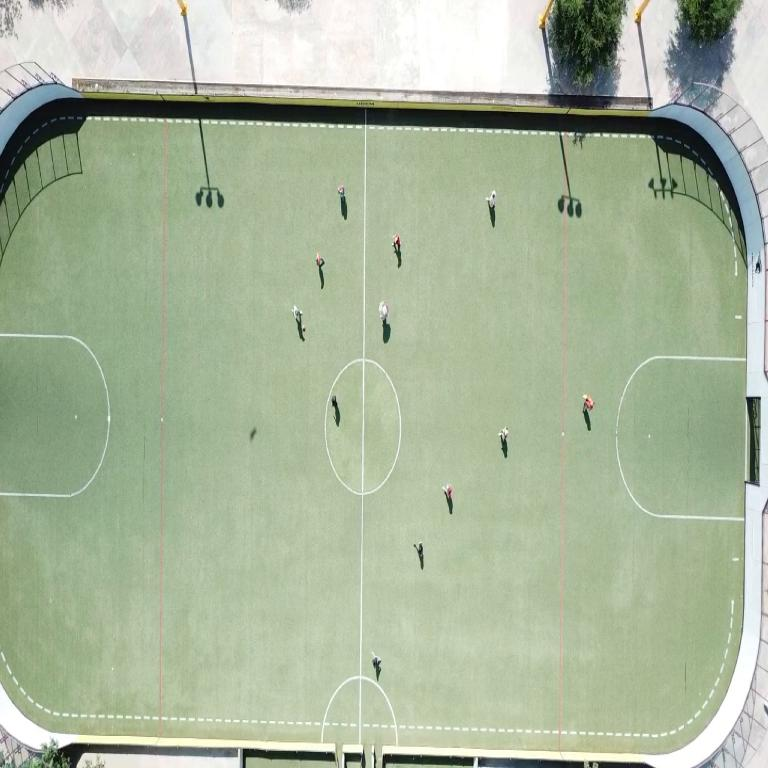AC: (615, 356, 745, 521), (0, 333, 110, 499)
B: (302, 324, 305, 330)
MC: (358, 109, 367, 743)
P: (486, 190, 496, 209), (380, 301, 388, 323), (372, 654, 381, 673), (583, 395, 593, 410), (414, 542, 423, 558), (442, 485, 452, 499), (499, 427, 508, 442), (293, 306, 301, 322), (393, 234, 400, 252), (317, 252, 323, 267), (338, 185, 344, 198), (332, 394, 337, 409)
